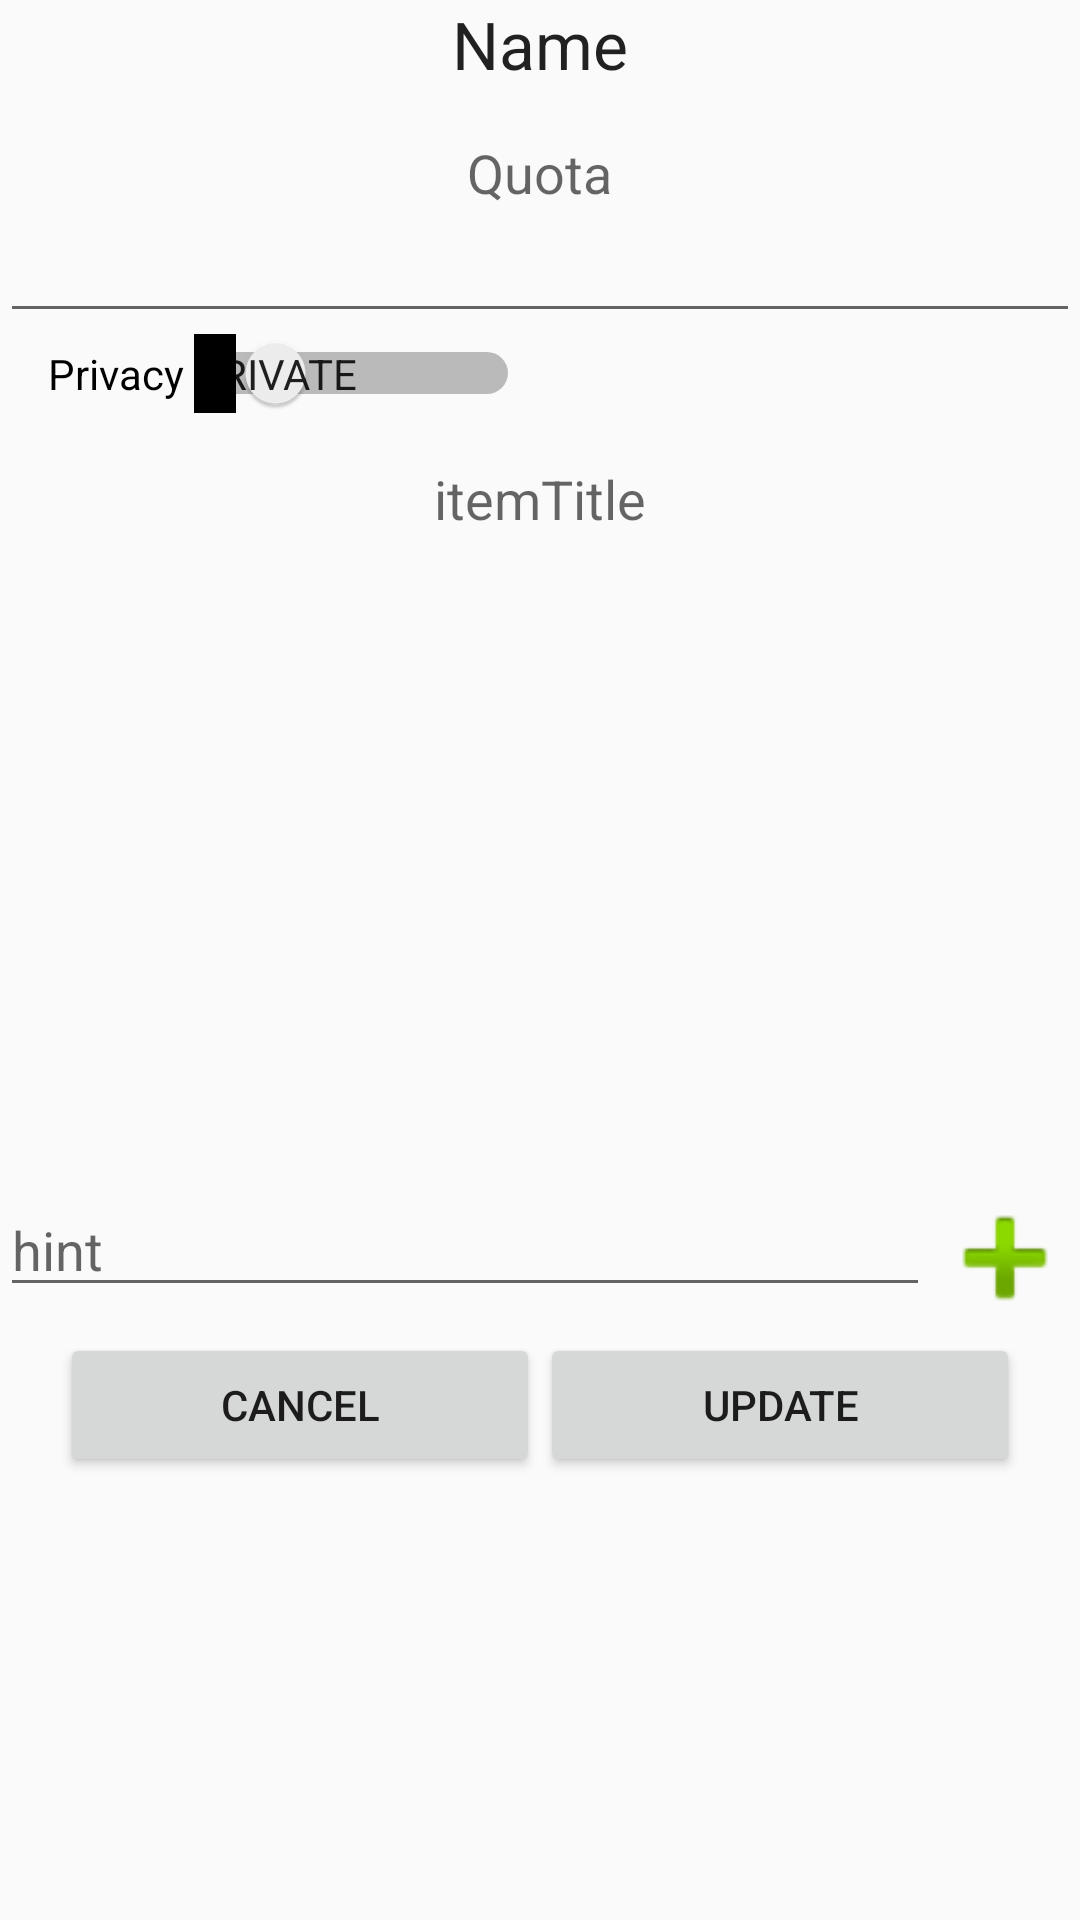

Icon click points for this 1080x1920 phone screenshot, format point (x, y):
add: point (1005, 1258)
